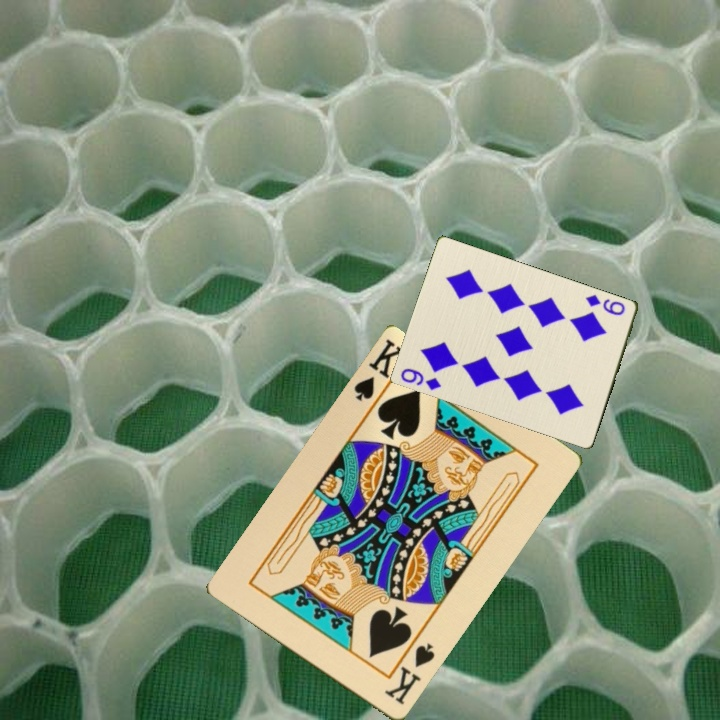9d: (397, 364, 445, 393), (582, 290, 628, 318)
Ks: (350, 336, 409, 405), (381, 640, 439, 709)
